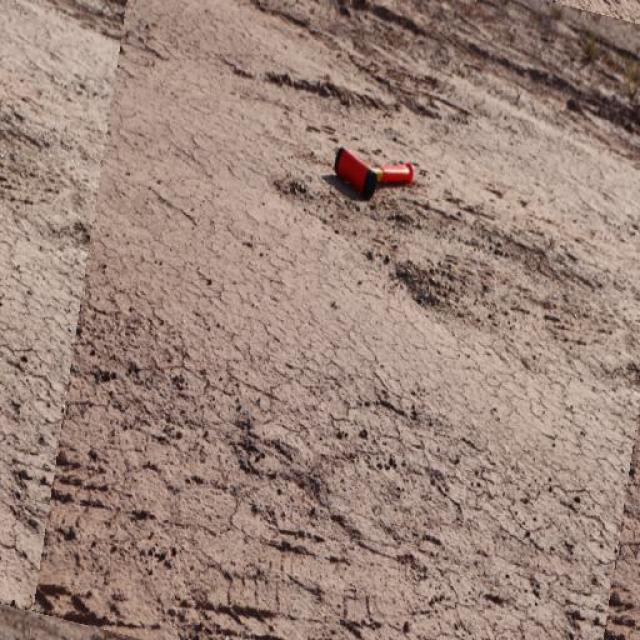mallet: (331, 144, 415, 200)
